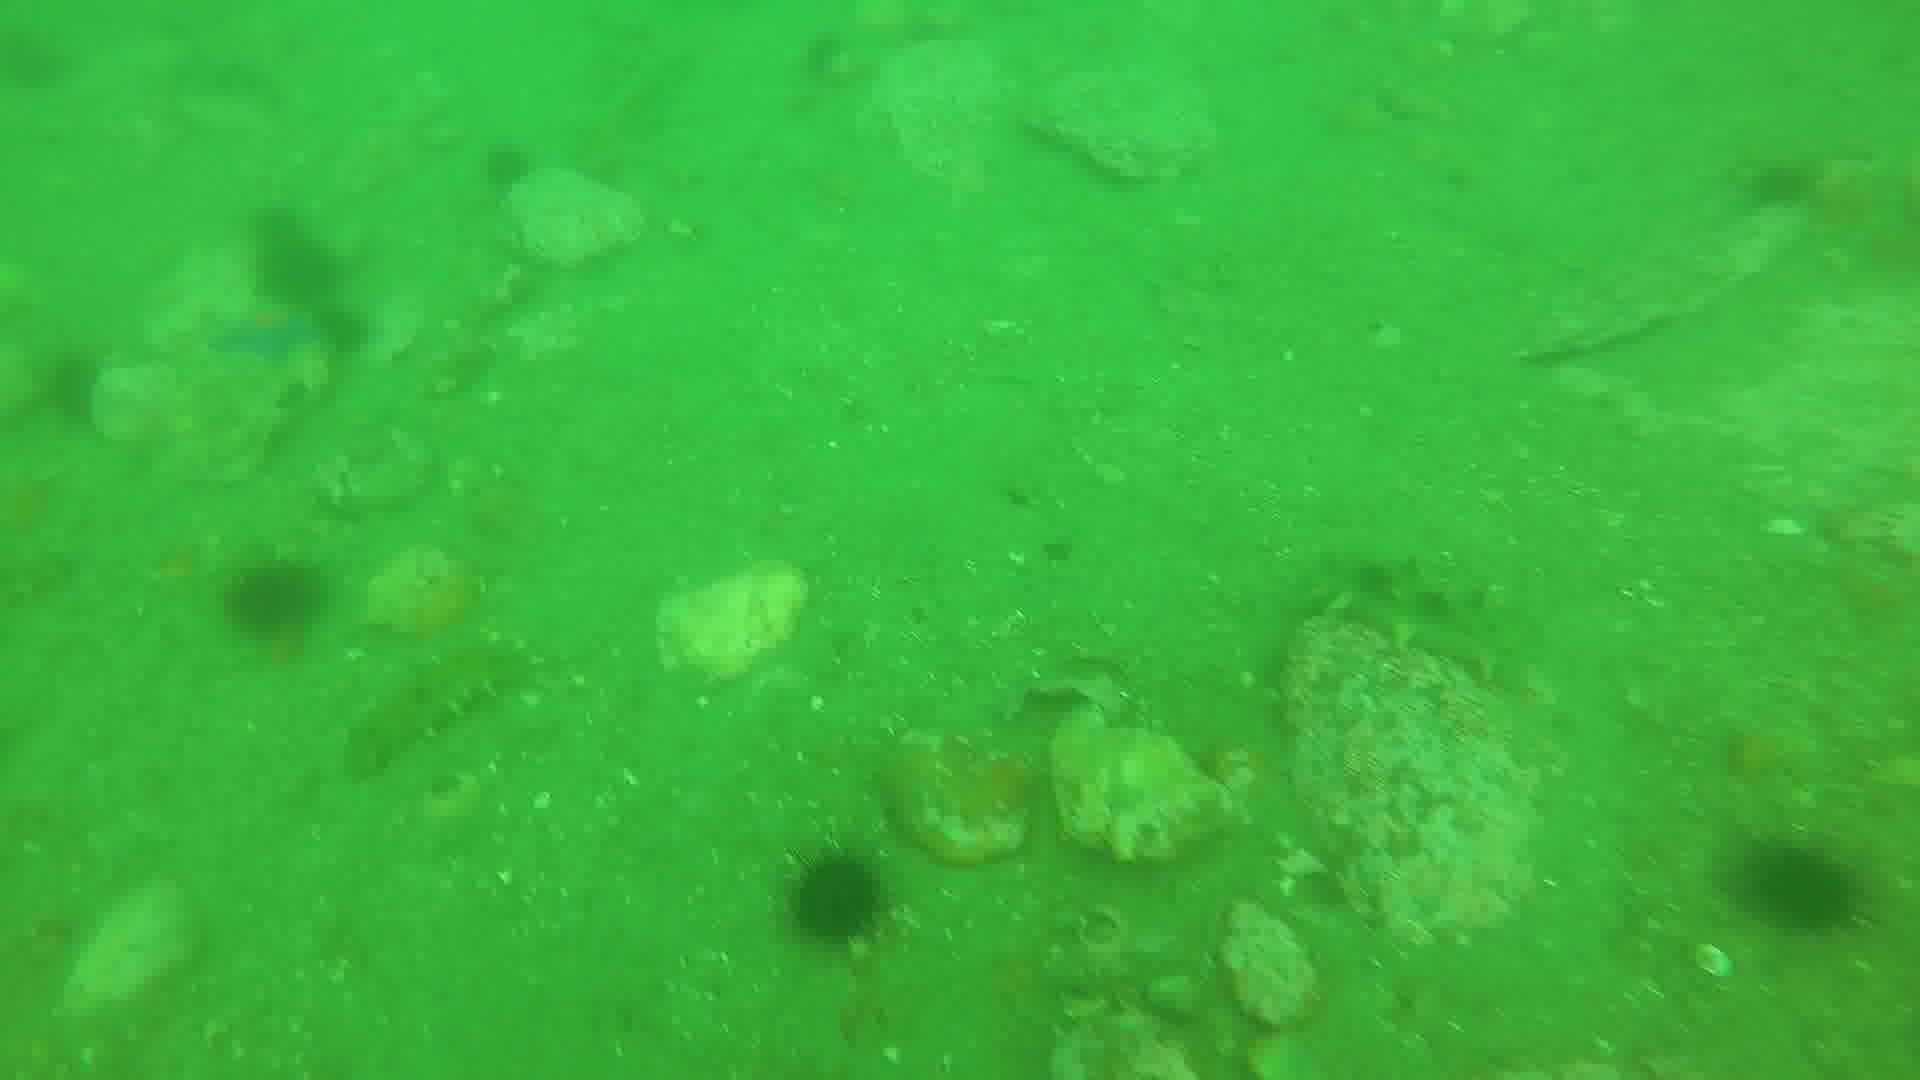echinus: (1727, 841, 1862, 939), (785, 849, 894, 936), (236, 555, 326, 645), (266, 214, 328, 291)
holothurian: (1317, 543, 1527, 683), (349, 645, 524, 779)
starfish: (208, 297, 326, 368)
